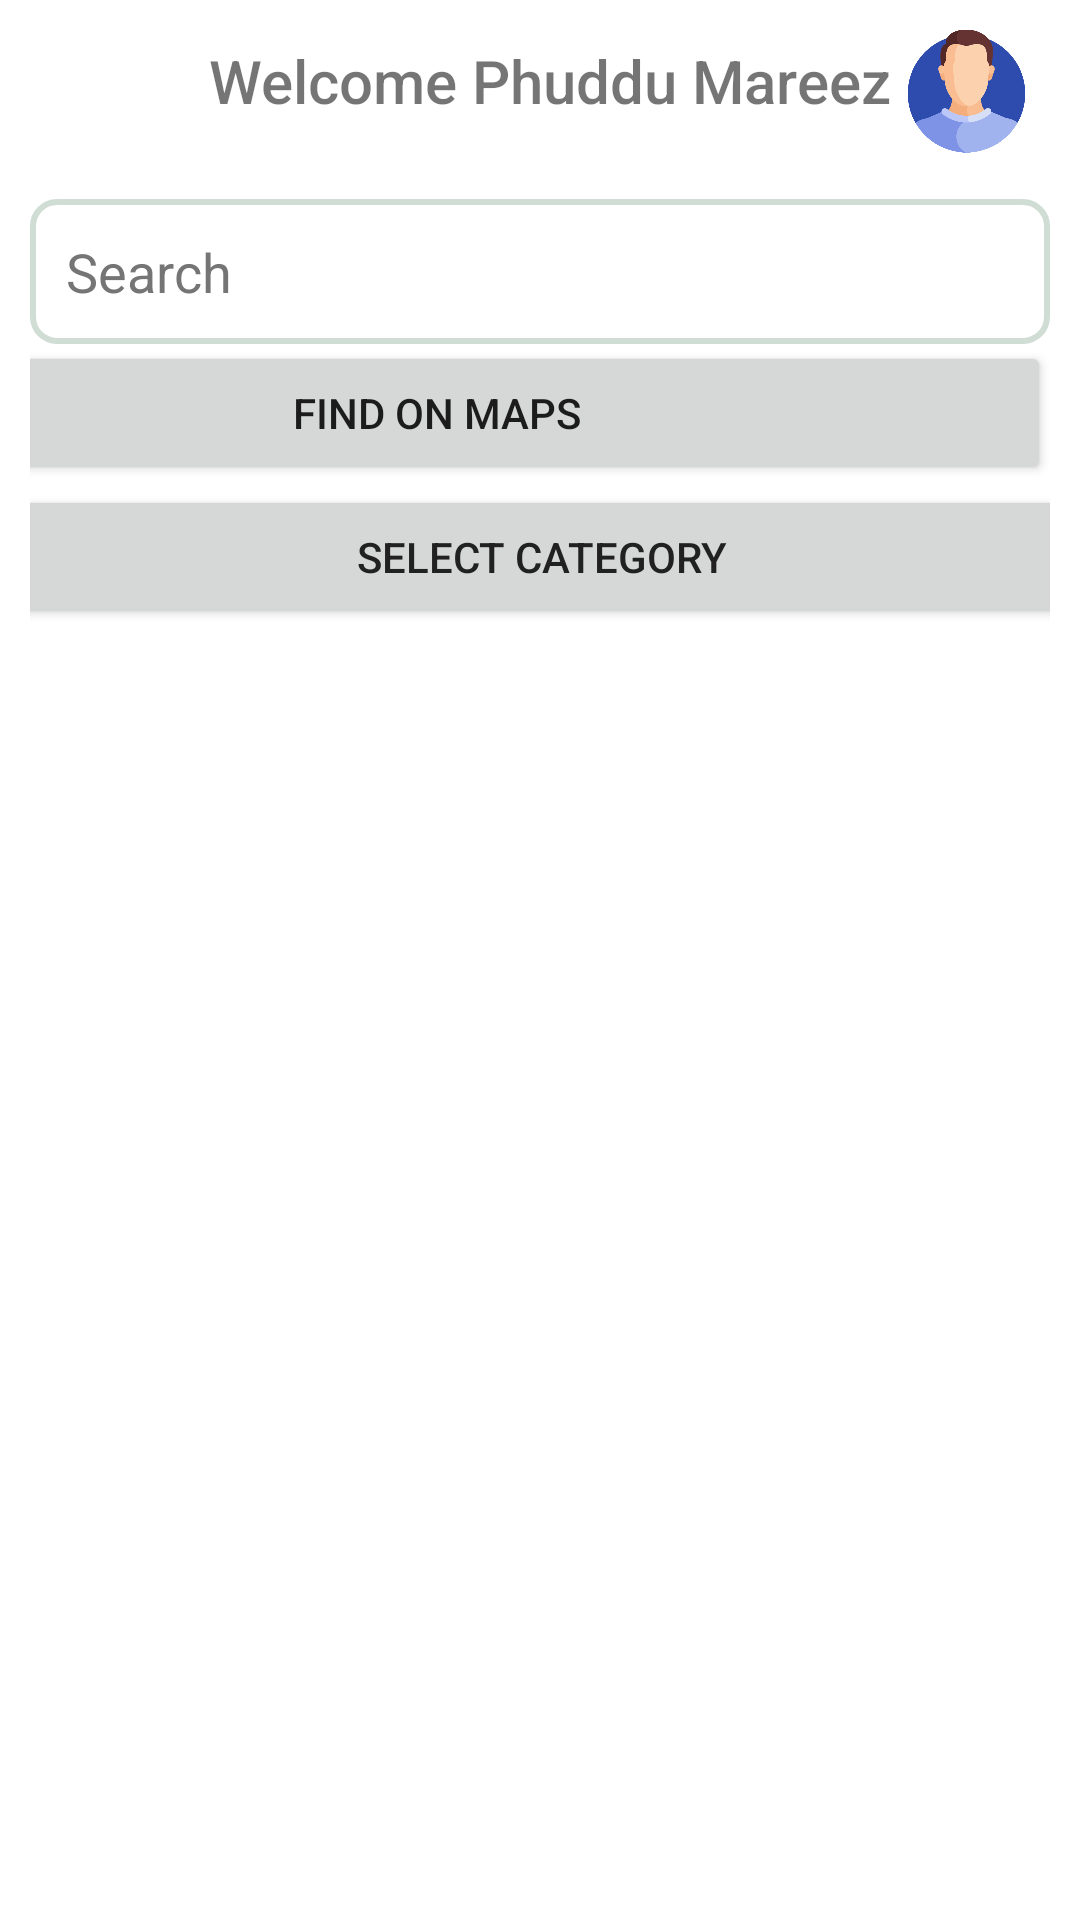

Icon click points for this 1080px x 1920px phone screenshot, format (x,y):
patient: (966,91)
